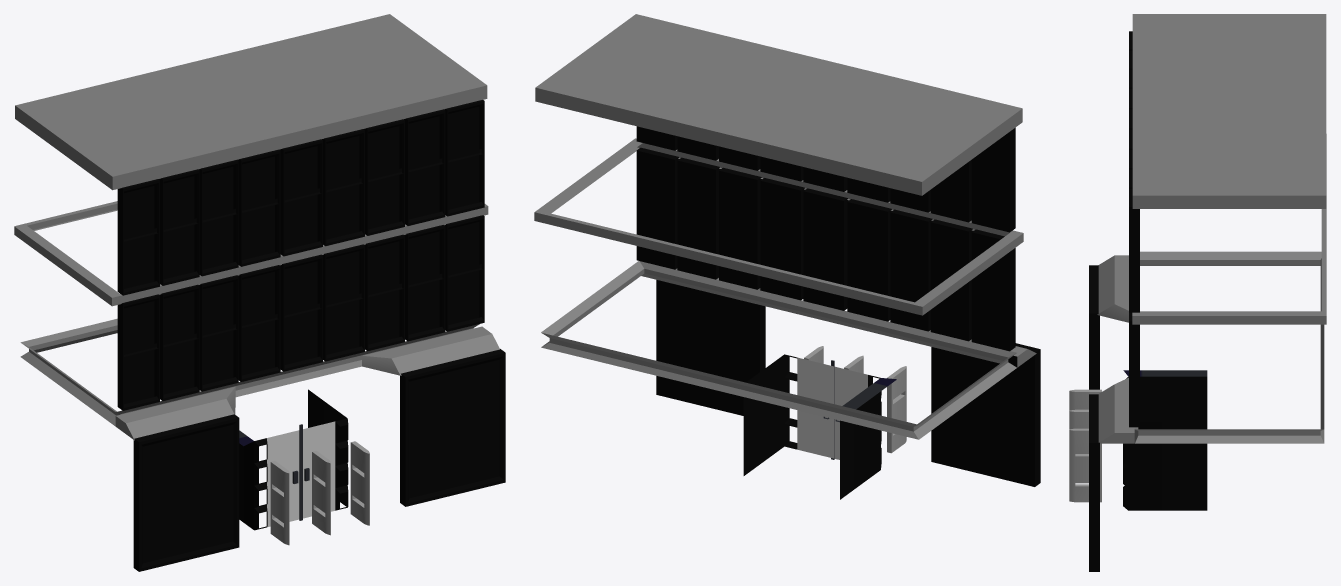
Rendered from LojaGenerica2RosaLOD0.fbx.
3 renders of one model, left to right at view 1: azimuth 30°, elevation 25°; view 2: azimuth 150°, elevation 25°; view 3: azimuth 270°, elevation 25°, orthographic. The views are drawn at different scales.
Visible parts, largest first — view 1: LojaGenerica2LOD0.001, SensoresLOD0; view 2: LojaGenerica2LOD0.001, SensoresLOD0; view 3: LojaGenerica2LOD0.001, SensoresLOD0.
Boxes of the visible parts, x1,y1,x2,y2 form: LojaGenerica2LOD0.001: [14, 14, 505, 571]; SensoresLOD0: [270, 441, 369, 545]; LojaGenerica2LOD0.001: [534, 14, 1040, 499]; SensoresLOD0: [804, 346, 906, 453]; LojaGenerica2LOD0.001: [1089, 14, 1326, 571]; SensoresLOD0: [1069, 389, 1101, 502].
Size of the model in its own units: 1094 by 1077 by 653.
